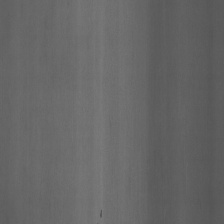inclusion: (98, 205, 105, 220)
